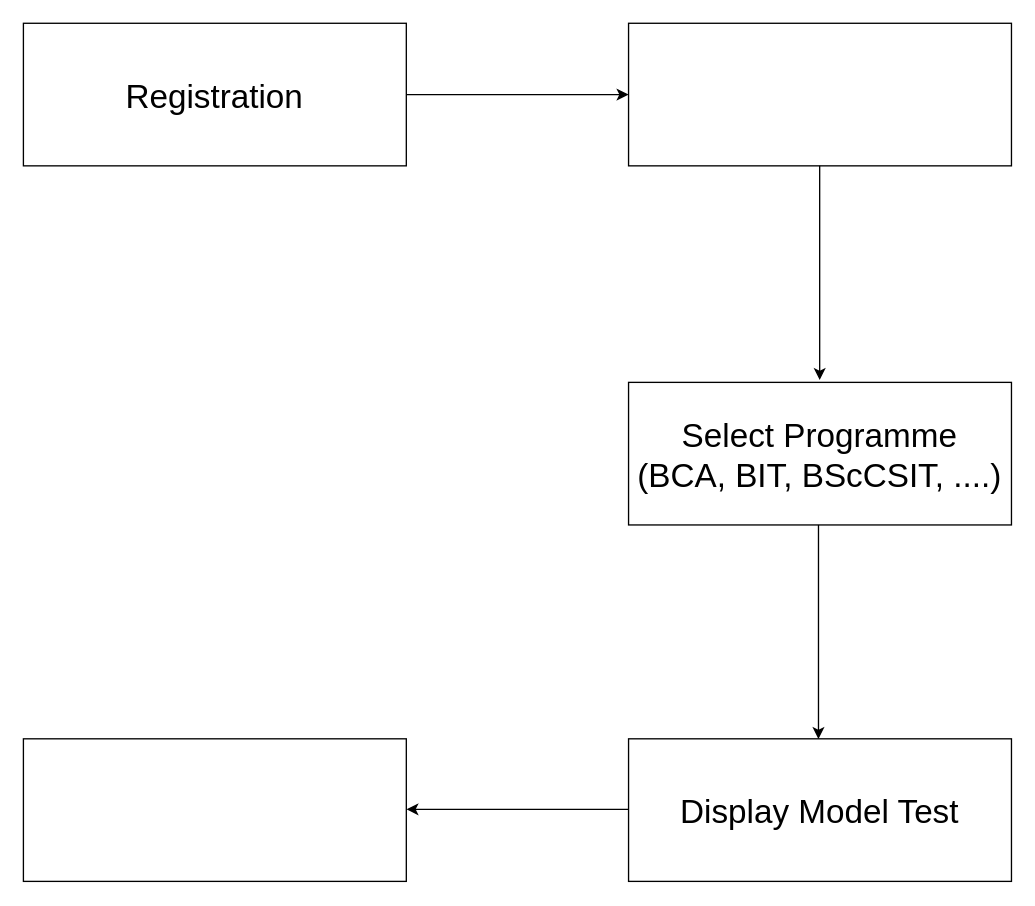
This 1035x906 diagram has some shape labels left out. Each missing label, with the box of its shape:
Display Result: (22, 737, 406, 881)
Login: (627, 22, 1011, 166)
